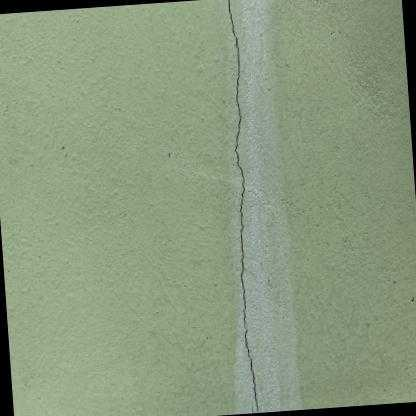crack: (228, 0, 246, 330), (244, 322, 258, 413), (252, 406, 253, 413)
